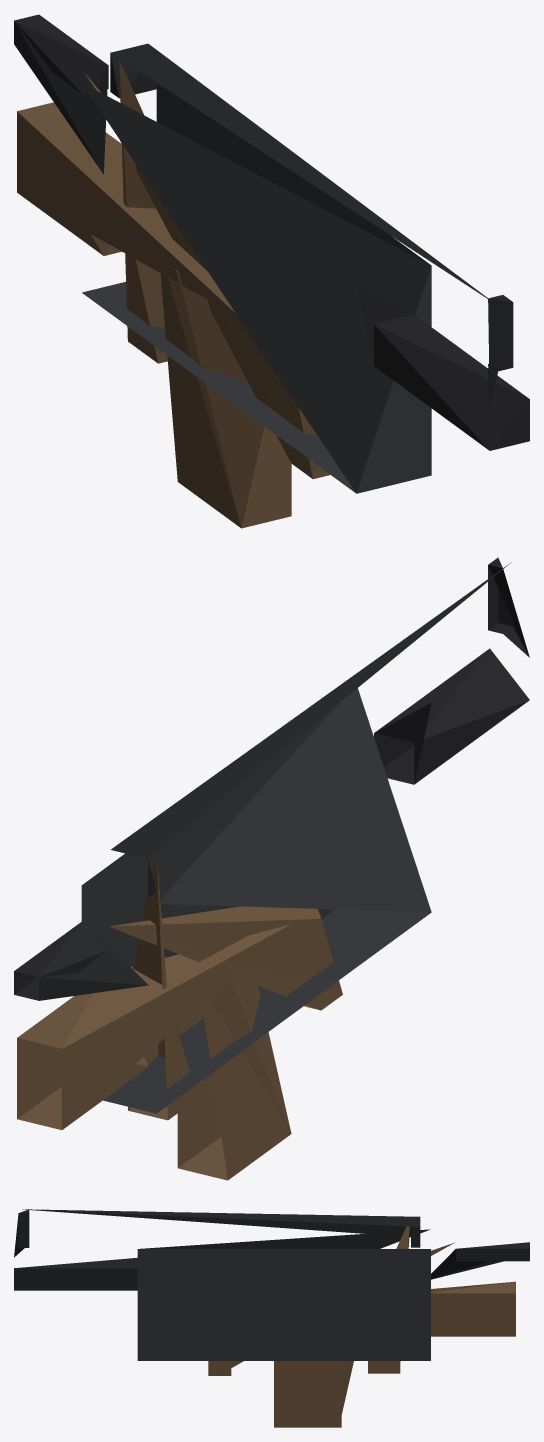
The picture shows the model from 3 angles, top to bottom: view 1: azimuth 30°, elevation 25°; view 2: azimuth 150°, elevation 25°; view 3: azimuth 270°, elevation 25°; orthographic projection. The views are drawn at different scales.
Size of the model in its own units: 0.06 by 0.3 by 0.668.
